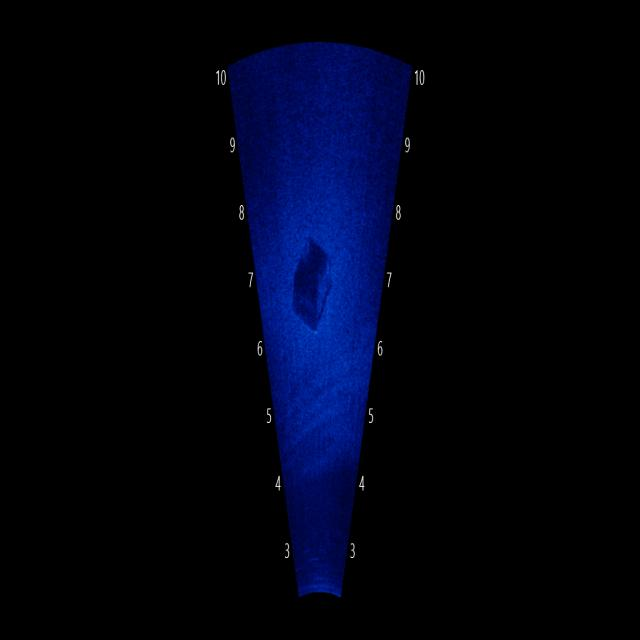square: (281, 211, 354, 363)
